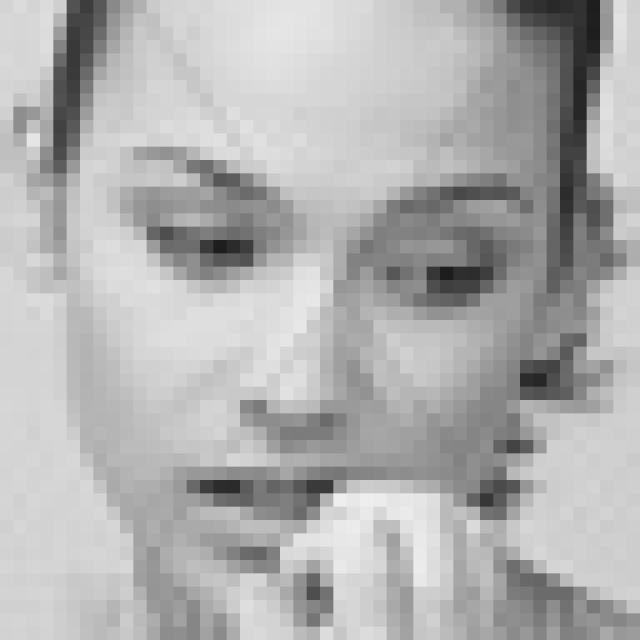fear: (123, 138, 536, 571)
